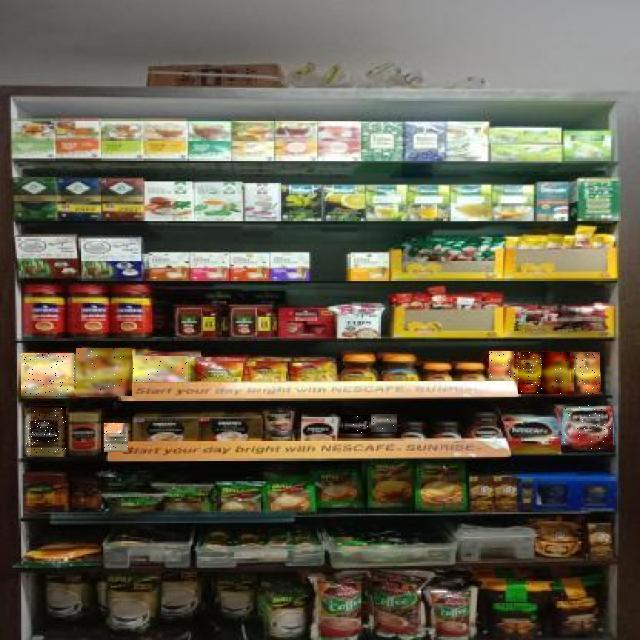Coffee: (77, 349, 133, 397), (22, 354, 76, 398), (561, 405, 613, 450), (26, 406, 66, 457), (134, 356, 190, 382), (542, 352, 570, 394), (574, 352, 600, 394), (518, 352, 542, 394), (490, 352, 516, 380), (104, 423, 128, 452), (341, 415, 369, 433), (371, 414, 397, 432)
